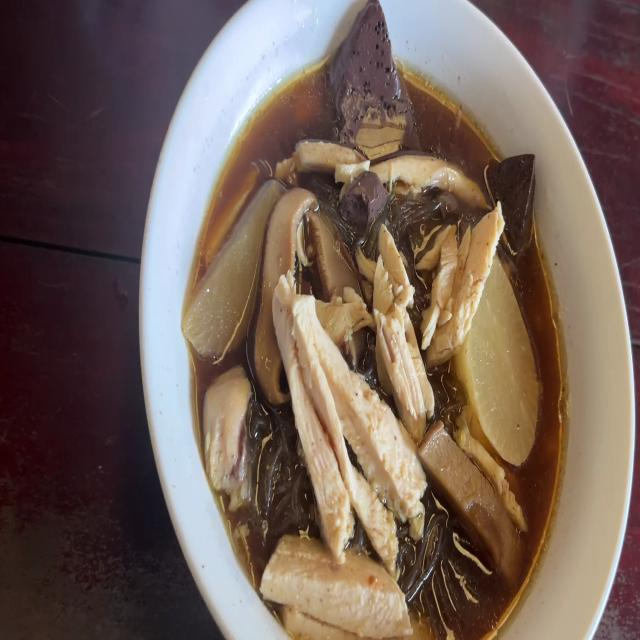boiled_chicken_blood_jelly: (331, 0, 412, 134), (492, 145, 544, 237), (346, 170, 379, 217)
chicken_shredded: (279, 280, 420, 548), (264, 538, 398, 630), (428, 202, 508, 350), (381, 228, 434, 414), (374, 141, 486, 202), (201, 360, 251, 493), (285, 130, 360, 177)
daikon_radish: (184, 172, 262, 352), (475, 287, 534, 447)
noodle: (191, 60, 559, 640)
